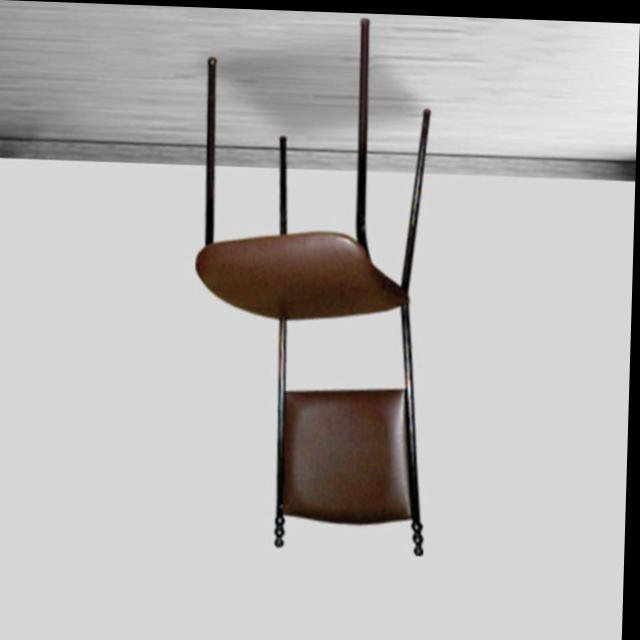Chair: (188, 14, 440, 556)
